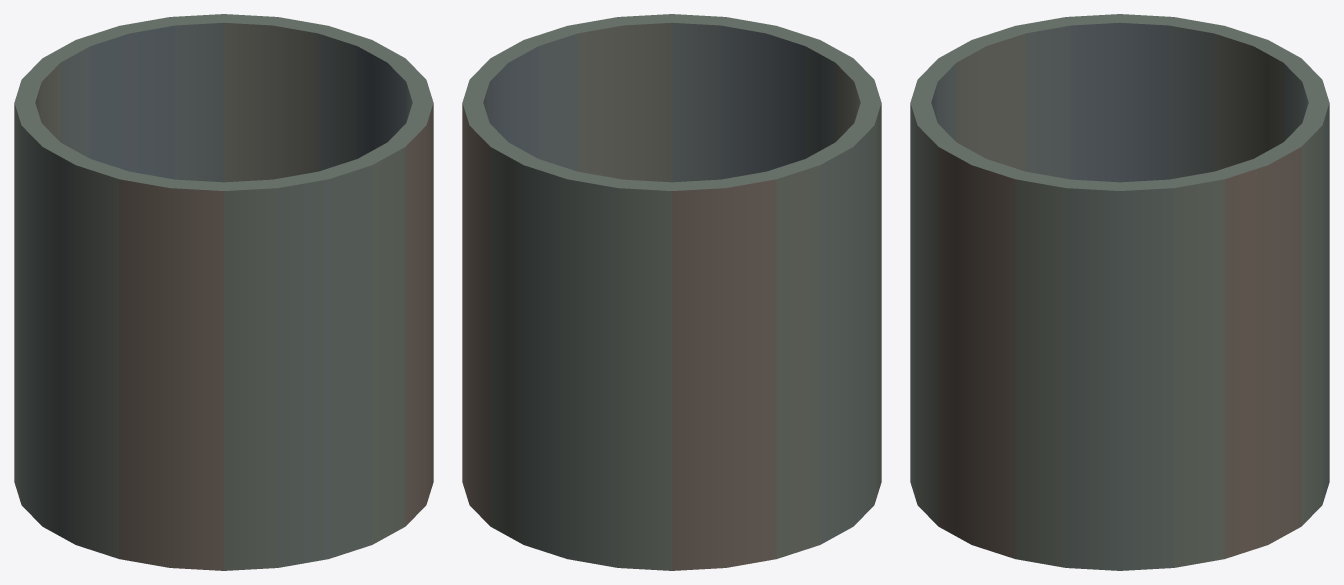
3 renders of one model, left to right at view 1: azimuth 30°, elevation 25°; view 2: azimuth 150°, elevation 25°; view 3: azimuth 270°, elevation 25°, orthographic.
Parts seen in each view (by area): view 1: Mesh; view 2: Mesh; view 3: Mesh.
Boxes of the visible parts, <box> form: Mesh: <box>14,14,433,570</box>; Mesh: <box>462,14,881,570</box>; Mesh: <box>910,14,1329,570</box>.
Bounding box in the file's own units: 100 × 100 × 100.
